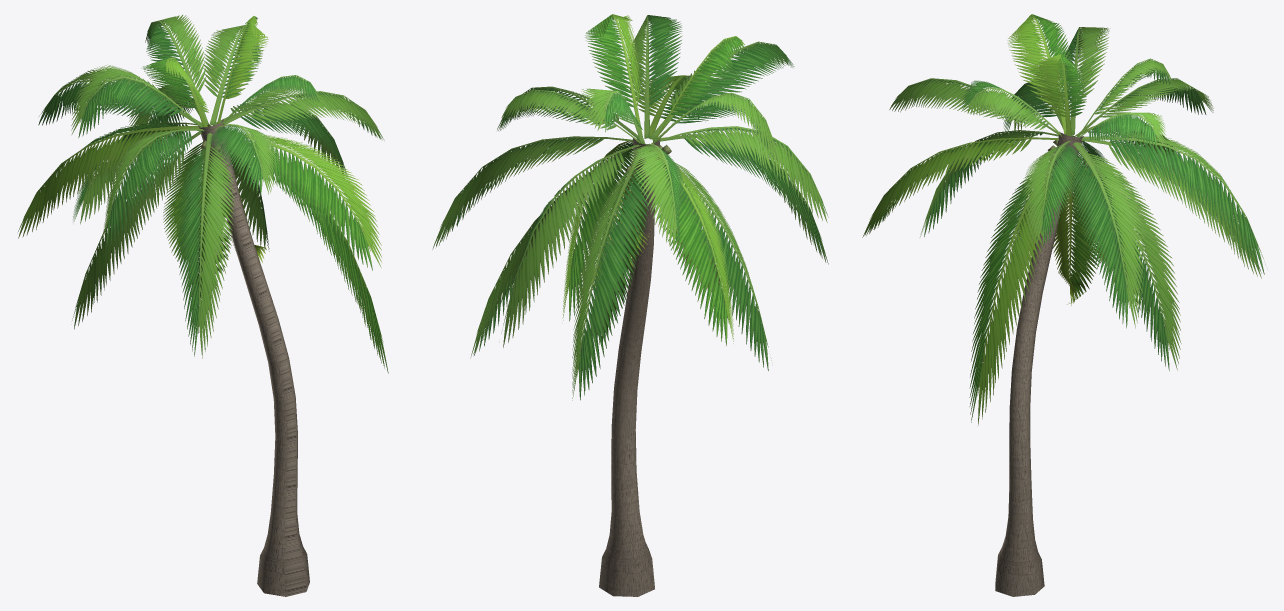
Rendered from palm-b.glb.
3 renders of one model, left to right at view 1: azimuth 30°, elevation 25°; view 2: azimuth 150°, elevation 25°; view 3: azimuth 270°, elevation 25°, orthographic. The views are drawn at different scales.
Parts seen in each view (by area): view 1: palm-0; view 2: palm-0; view 3: palm-0.
Part boxes in pixels (left/top/right/bottom): palm-0: left=18, top=15, right=388, bottom=596; palm-0: left=432, top=14, right=828, bottom=596; palm-0: left=862, top=14, right=1265, bottom=596.
Size of the model in its own units: 8.09 by 13.71 by 9.64.
2 materials, 2 textured.
